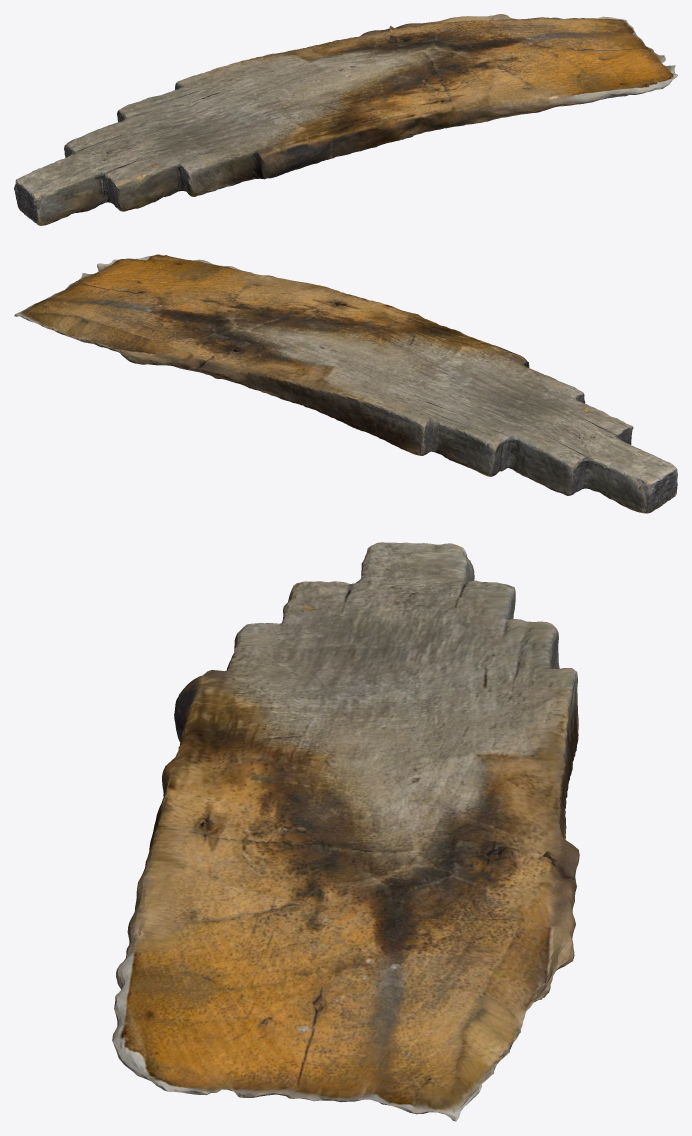
The model's file is ЛМХ.2026.003.glb.
The picture shows the model from 3 angles, top to bottom: view 1: azimuth 30°, elevation 25°; view 2: azimuth 150°, elevation 25°; view 3: azimuth 270°, elevation 25°; orthographic projection. The views are drawn at different scales.
Visible parts, largest first — view 1: world; view 2: world; view 3: world.
Part boxes in pixels (left/top/right/bottom): world: left=14, top=14, right=677, bottom=225; world: left=14, top=254, right=677, bottom=513; world: left=112, top=542, right=579, bottom=1121.
Bounding box in the file's own units: 0.4478 × 0.0513 × 0.1477.
1 material, 1 textured.
